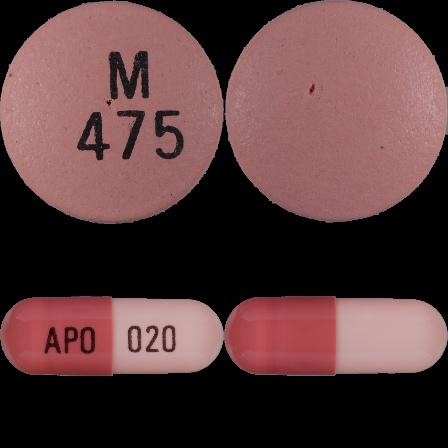53808-0744: (0, 0, 224, 224)
